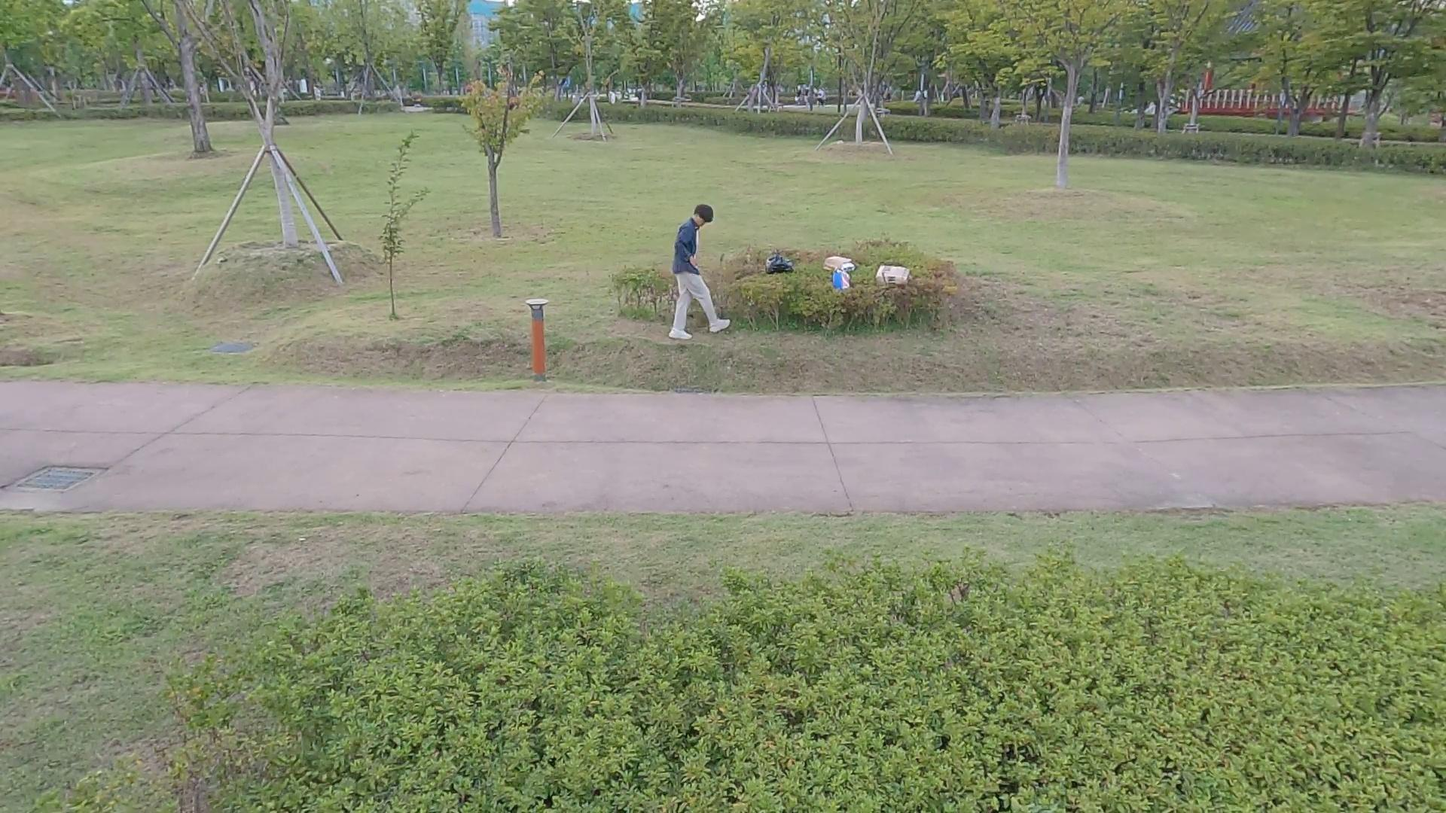trash: (669, 199, 731, 347), (874, 263, 912, 287), (765, 249, 794, 273), (823, 254, 856, 274), (832, 267, 851, 292)
